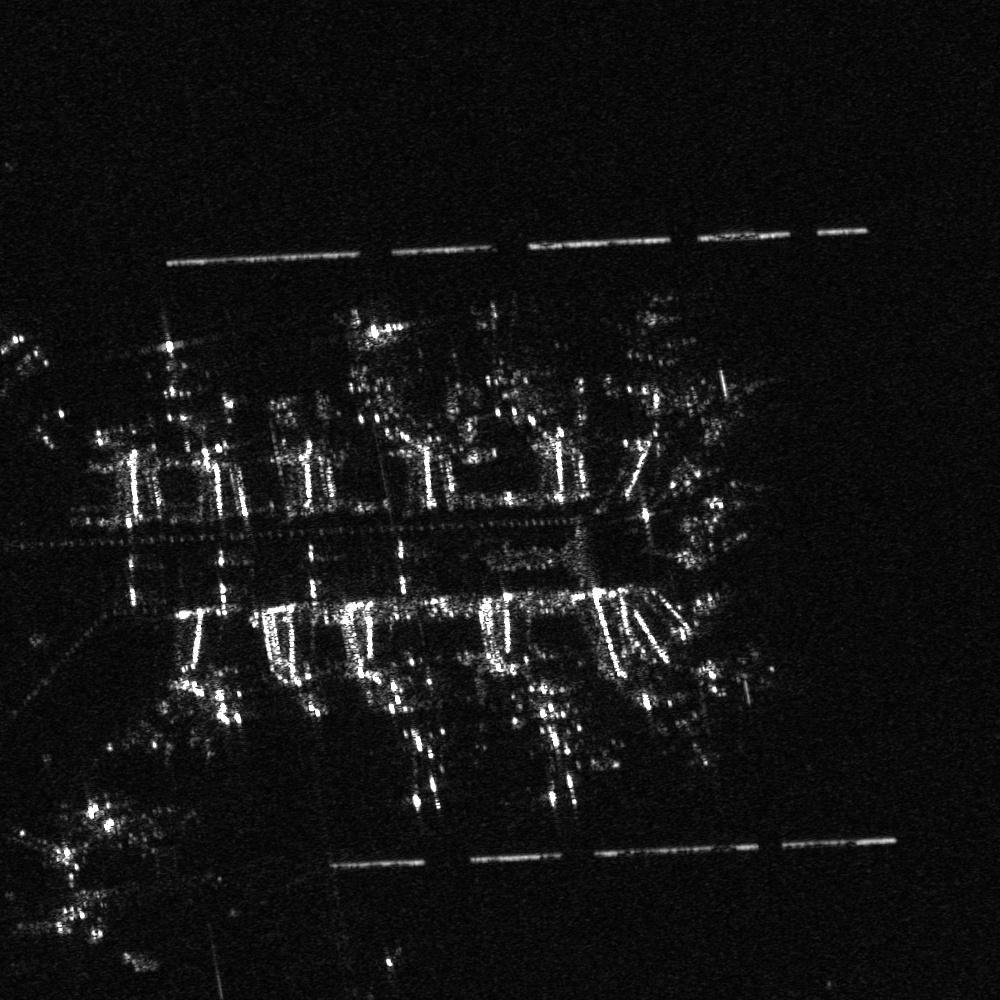A220: (151, 325, 220, 404)
A320/321: (515, 693, 597, 812), (604, 288, 704, 369), (691, 642, 796, 711), (469, 296, 530, 386), (333, 310, 388, 400)
Boeing737: (637, 684, 723, 781)
Boeing787: (377, 721, 462, 816)
